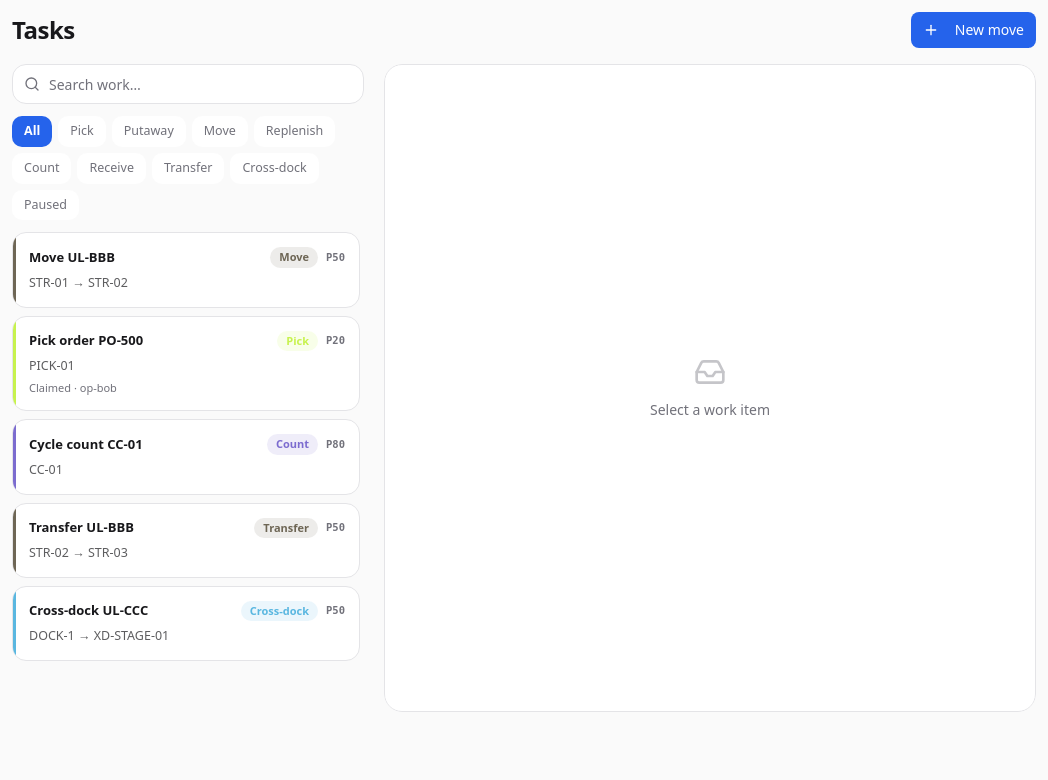
Test case: TasksPage › selecting a transport item renders the transport pane
Click the button with test id "work-row-MOVE:12". click: (72, 257)
box: [12,232,360,308]
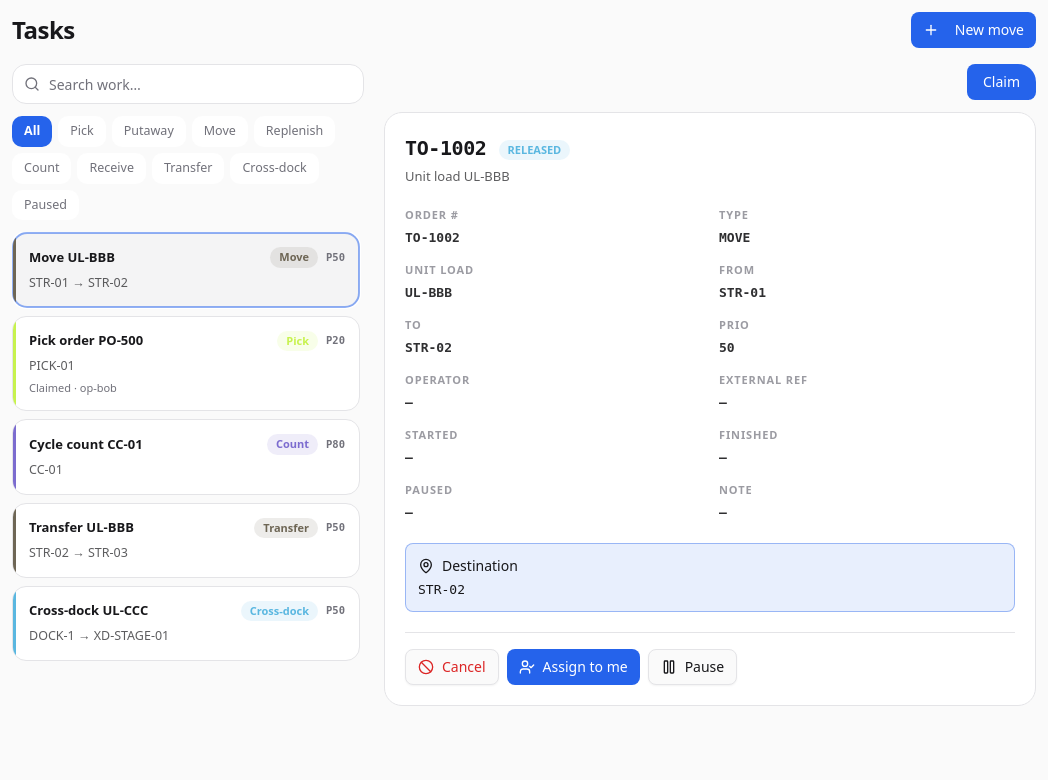
Result: the element with test id "task-detail-state" is shown at [498,136,570,160]
